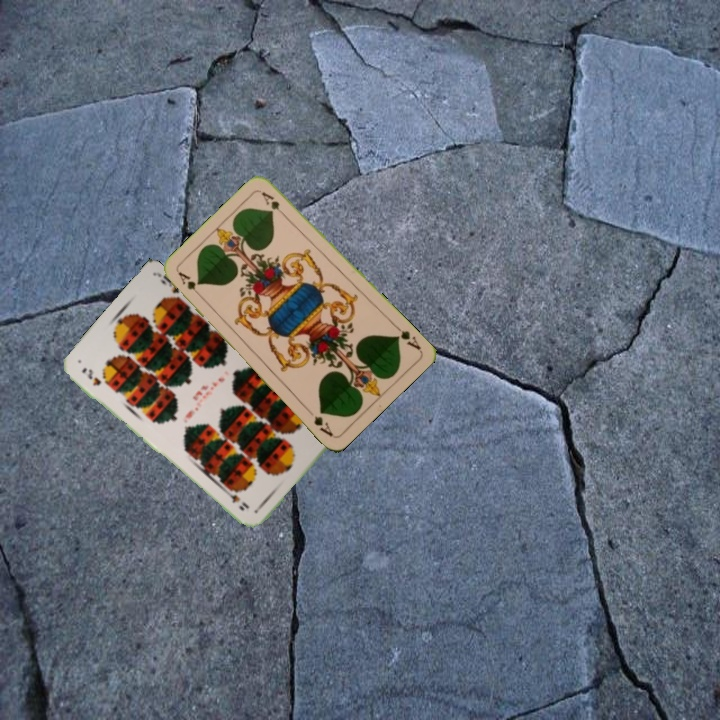GA: (390, 321, 424, 353), (174, 268, 206, 301)
S9: (77, 363, 103, 389)
